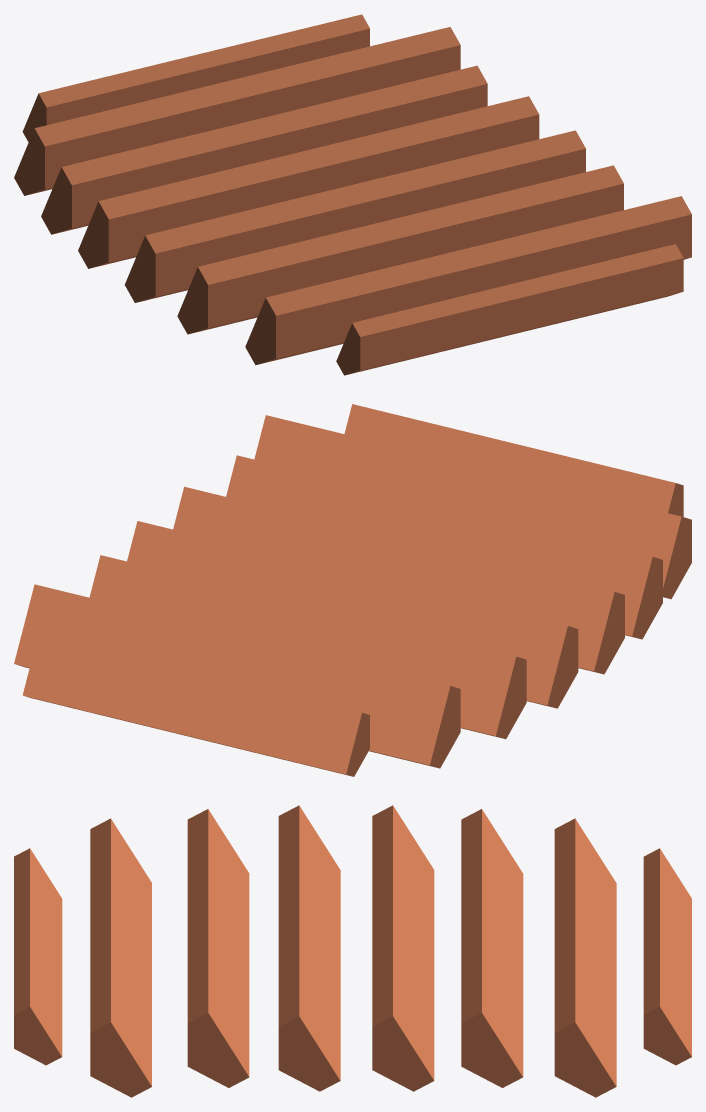
The model's file is campfire_complete_woods.fbx.
3 views of the same model, one above another, from view 1: azimuth 30°, elevation 25°; view 2: azimuth 150°, elevation 25°; view 3: azimuth 270°, elevation 25° (orthographic).
Parts seen in each view (by area): view 1: campfire_complete_woods; view 2: campfire_complete_woods; view 3: campfire_complete_woods.
Part boxes in pixels (x1,y1,x2,y2): campfire_complete_woods: (14,14,691,375); campfire_complete_woods: (14,404,691,776); campfire_complete_woods: (14,805,691,1097).
Size of the model in its own units: 102 by 16.63 by 135.
